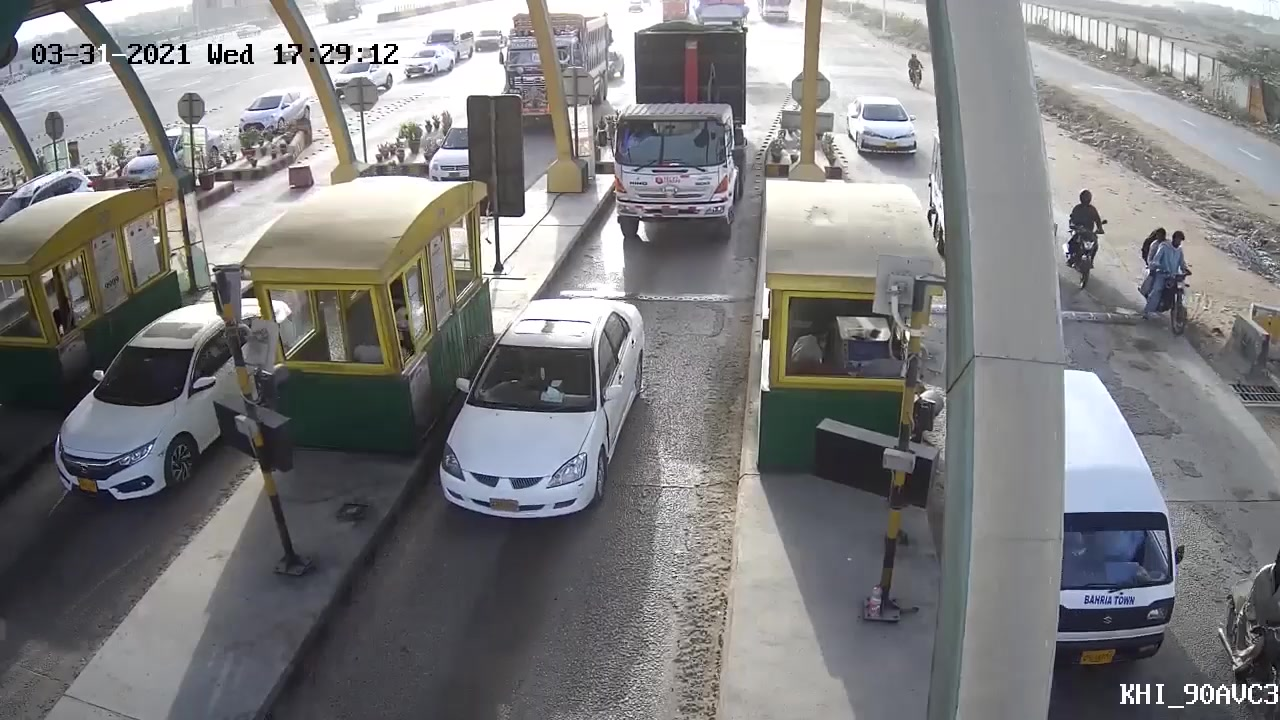F1: (433, 291, 653, 531)
